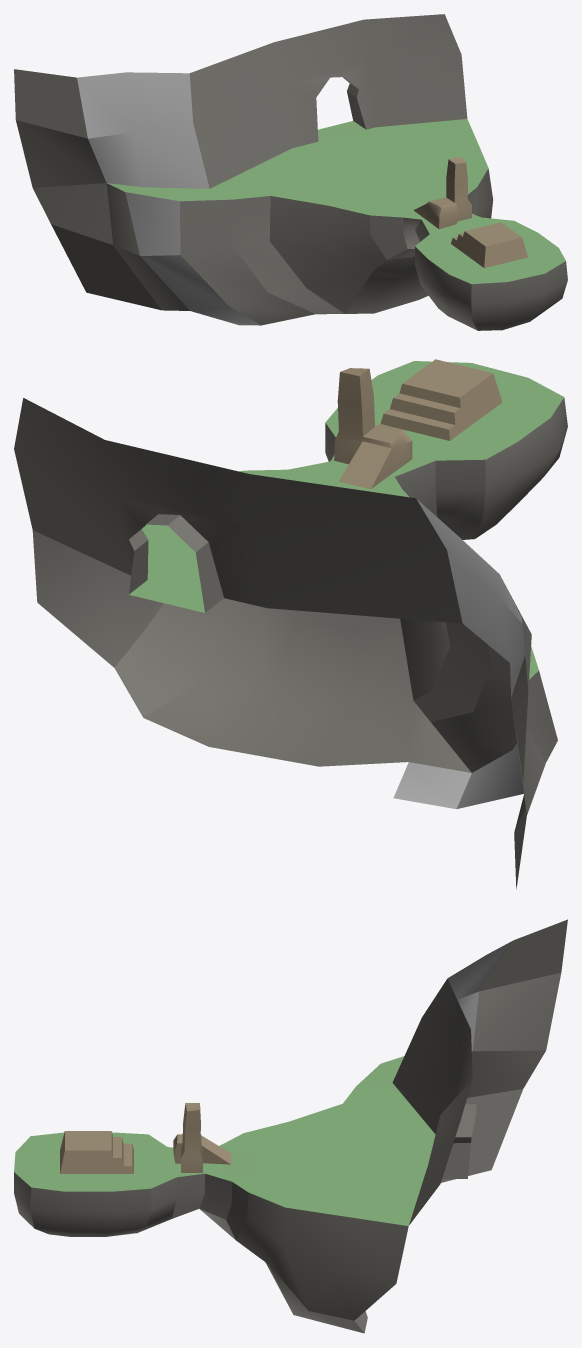
File: level_01.fbx
3 views of the same model, one above another, from view 1: azimuth 30°, elevation 25°; view 2: azimuth 150°, elevation 25°; view 3: azimuth 270°, elevation 25° (orthographic). The views are drawn at different scales.
Parts seen in each view (by area): view 1: level_01; view 2: level_01; view 3: level_01.
Part boxes in pixels (<box>): level_01: <box>14,14,567,330</box>; level_01: <box>14,359,567,889</box>; level_01: <box>14,919,567,1333</box>.
Bounding box in the file's own units: 2112 × 1190 × 2368.
